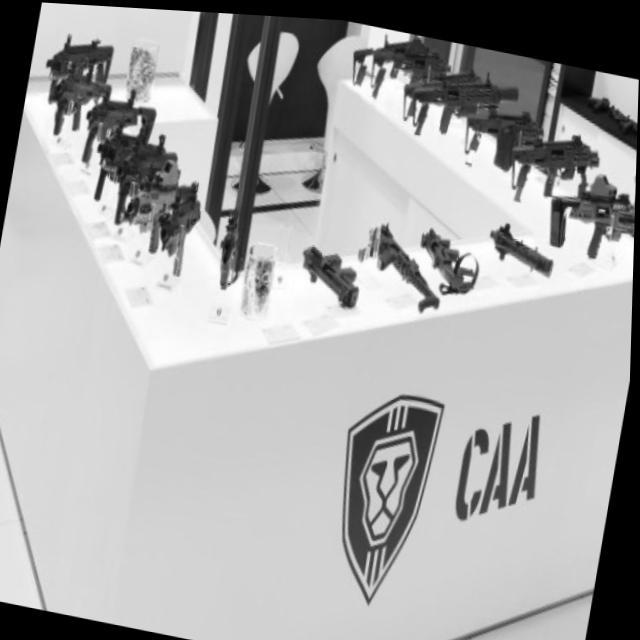weapon: (326, 18, 640, 260), (538, 149, 637, 258), (352, 210, 453, 316), (500, 110, 612, 203), (404, 49, 520, 136), (344, 19, 442, 97), (119, 143, 187, 243), (466, 82, 546, 166), (410, 218, 488, 300), (152, 166, 206, 284), (82, 90, 160, 168), (294, 233, 369, 310), (92, 126, 176, 194), (42, 24, 121, 90), (486, 212, 560, 270), (44, 82, 114, 140), (212, 198, 251, 300)
